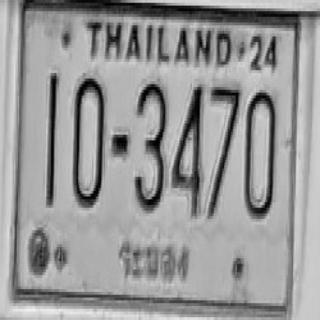N00: (72, 76, 104, 208), (244, 88, 276, 220)
N01: (46, 72, 58, 206)
N03: (134, 80, 167, 212)
N04: (172, 83, 202, 215)
N07: (207, 84, 241, 219)
P53: (116, 232, 192, 299)
